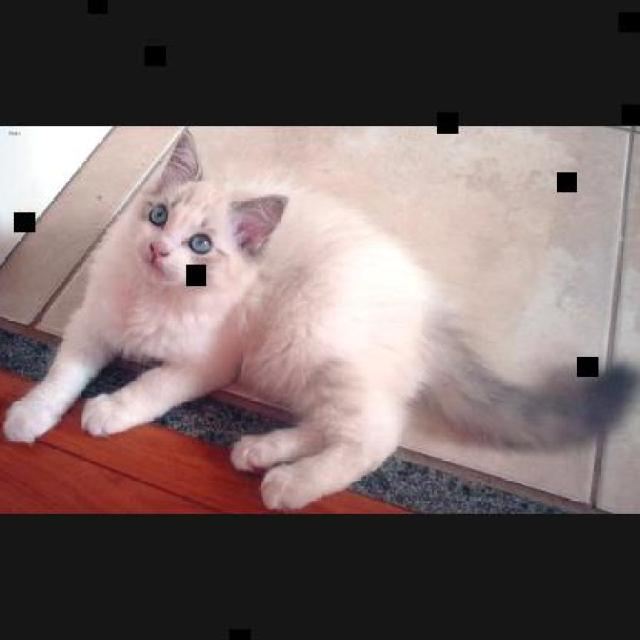unauthorized: (0, 126, 638, 510)
